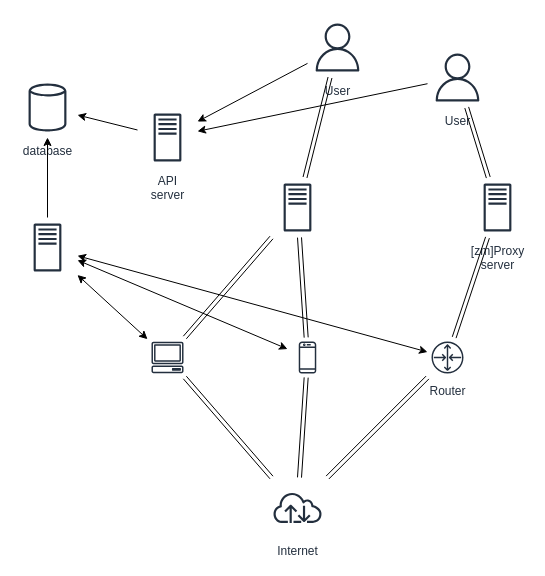
Some shapes in this 545 by 576 pixel diagram are drawn without their labels. The shapes that lost their labels are listed below. From the top down, each one's centre as x and y in pixels, then its label:
At point 297,207: "[kdl]Proxy server".
At point 47,247: "Manage server".
At point 167,357: "PC".
At point 307,357: "Mobile".
